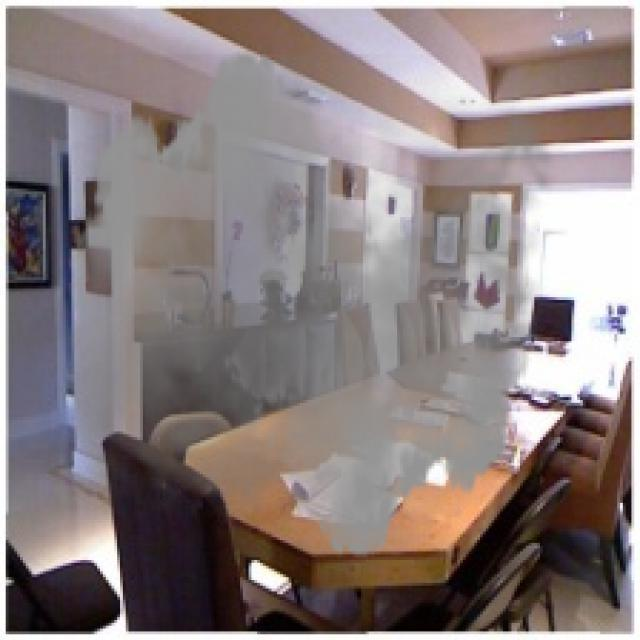Smoke: (46, 34, 572, 574)
